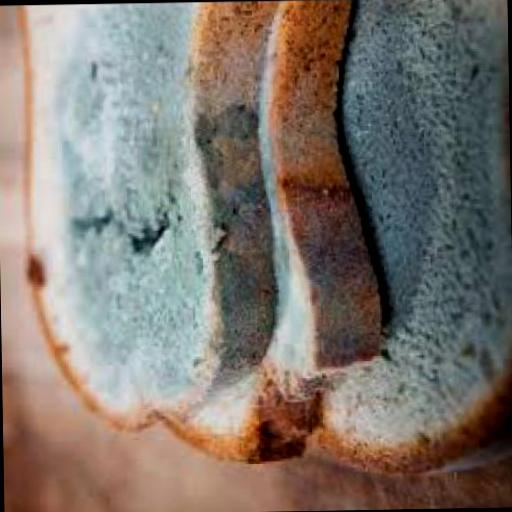biodegradable: (16, 2, 278, 436), (150, 0, 383, 468), (302, 0, 512, 478)
